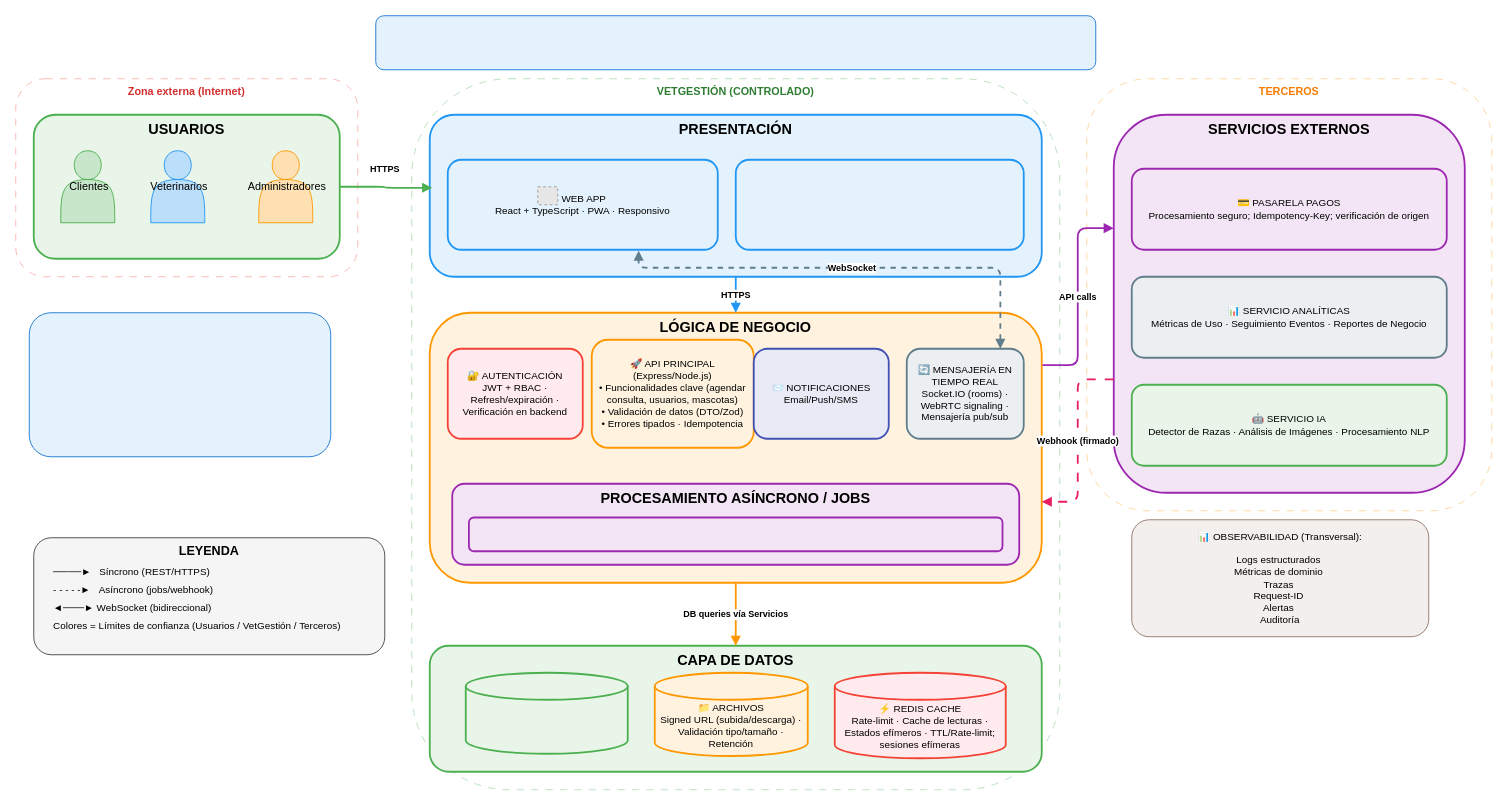
Some shapes in this 1508 by 806 pixel diagram are drawn without their labels. Grey dashed boxes stand in for pictures. Here are the shapes that lost their labels. From the top down, the centre of each, then its label:
At [735,42]: "VetGestión - Arquitectura del Sistema".
At [879,204]: "⚙️ PANEL ADMIN React SPA · Reportes · Configuración".
At [179,384]: "STACK TECNOLÓGICO: MERN (MongoDB + Express + React + Node.js)".
At [735,534]: "⚙️ JOBS: Recordatorios · Notifs con reintentos · Reportes/analítica batch".
At [546,712]: "🍃 MONGODB Modelo de dominio · Índices por caso de uso · Auditoría lógica".
